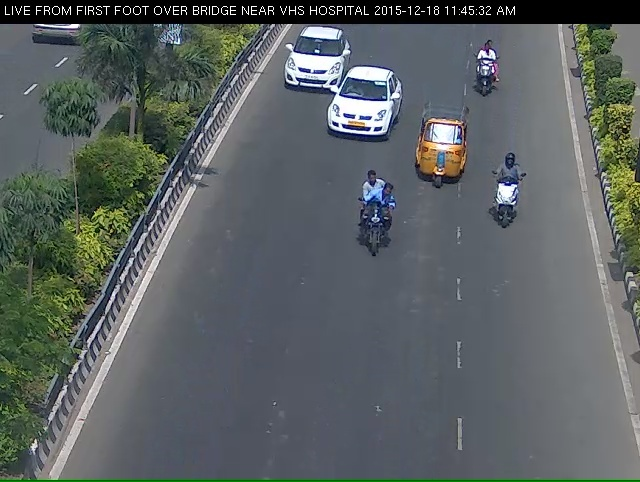Car: (323, 78, 397, 160), (278, 26, 351, 99), (410, 118, 474, 201)
Person: (352, 192, 401, 282), (494, 171, 534, 248), (471, 44, 510, 107)
